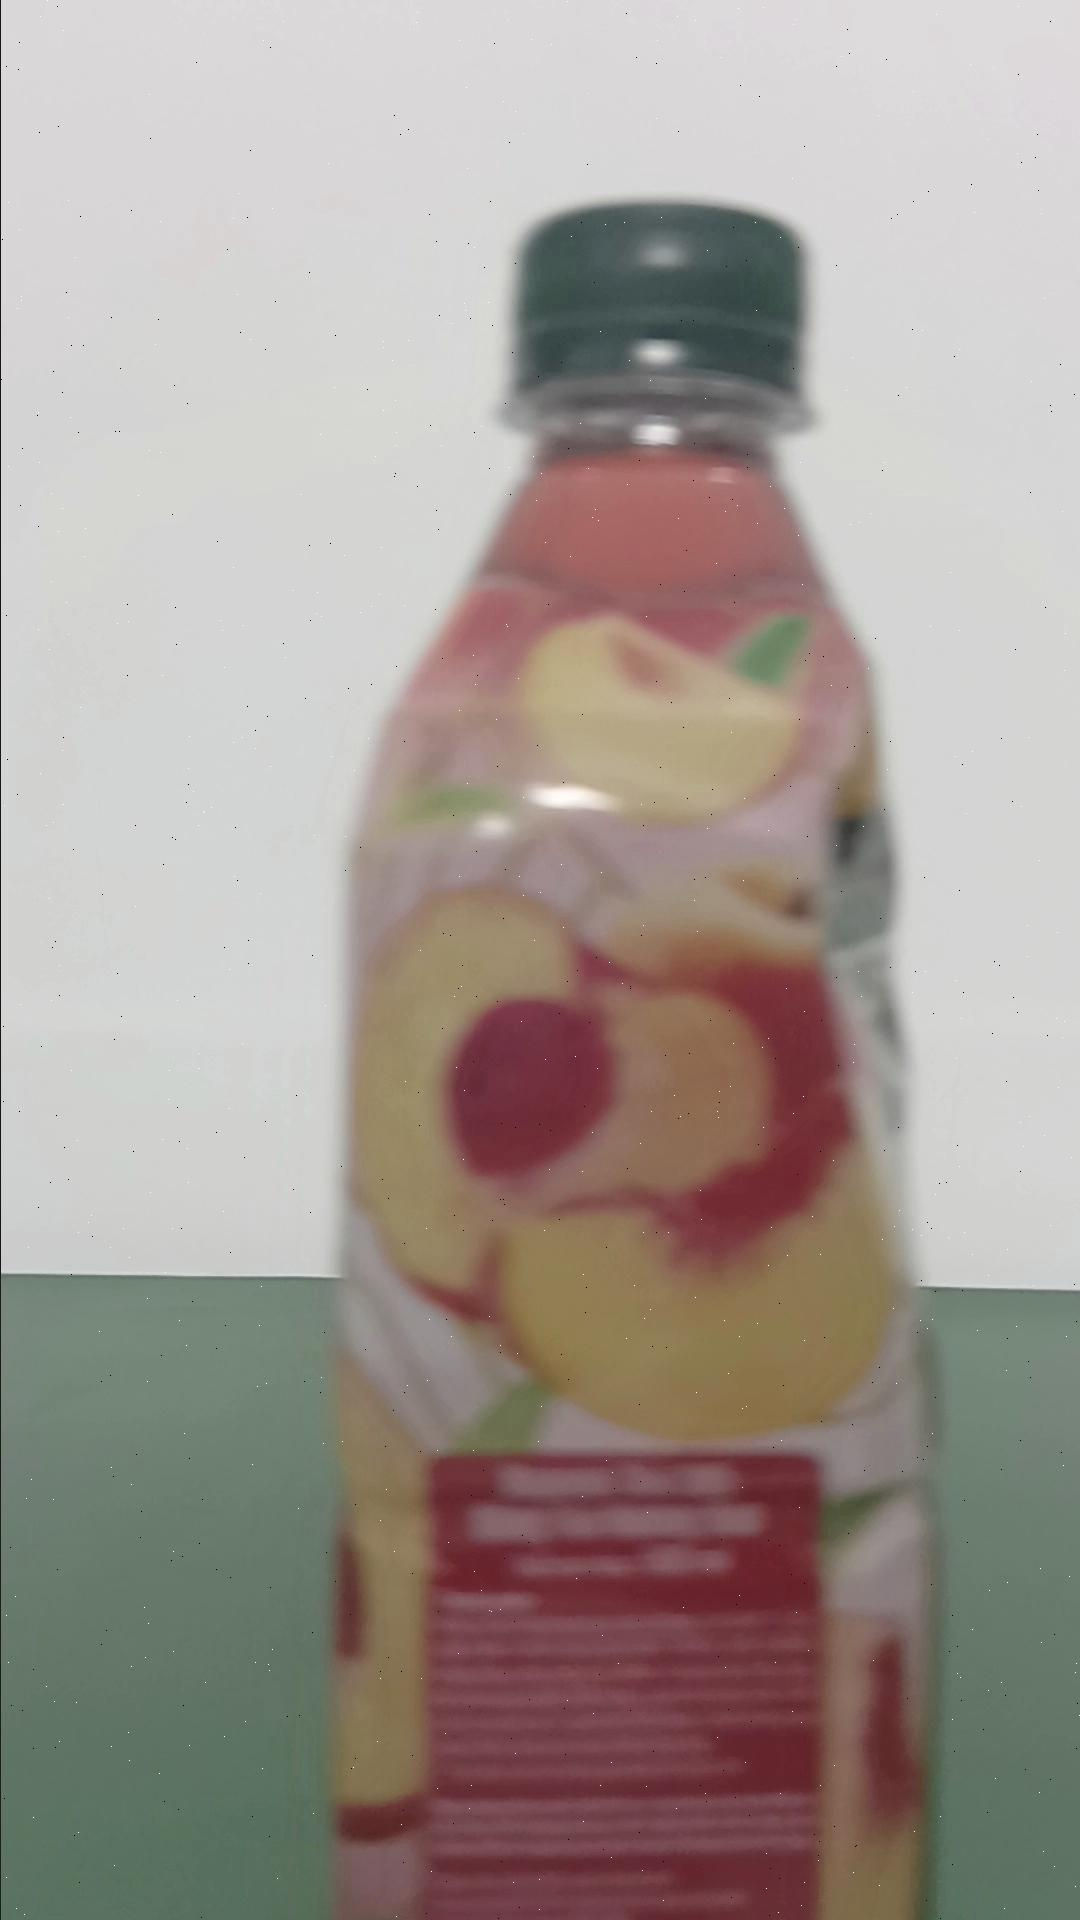loi meo sp: (327, 194, 943, 1913)
